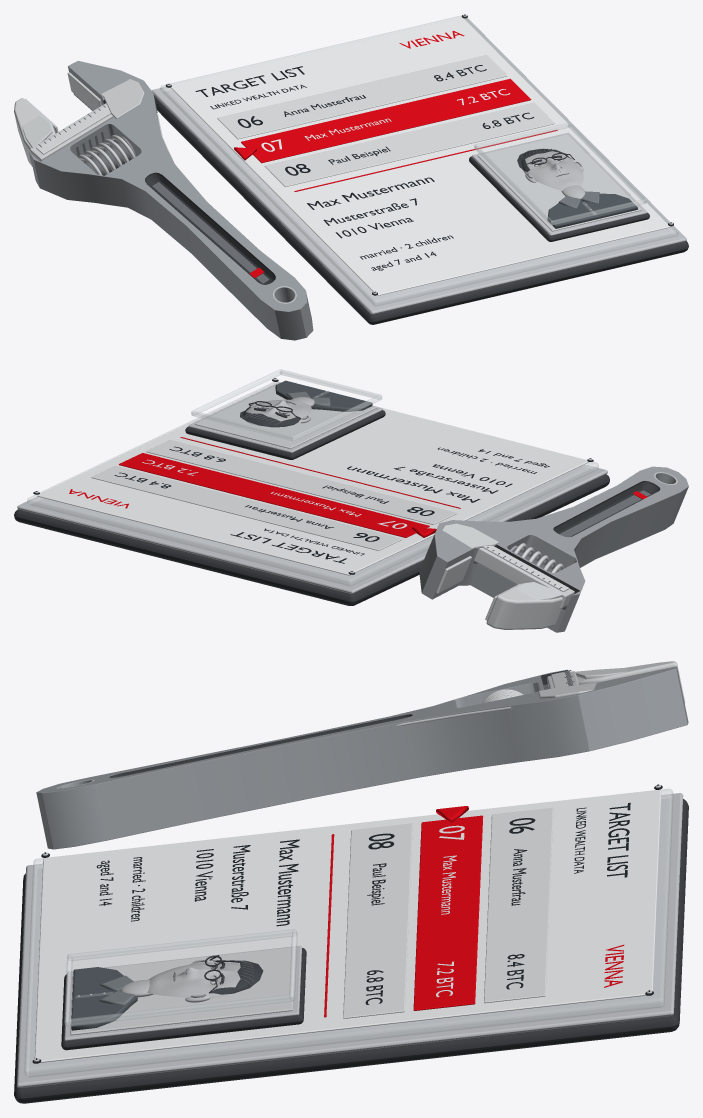
File: ranked-portrait-en.glb
3 views of the same model, one above another, from view 1: azimuth 30°, elevation 25°; view 2: azimuth 150°, elevation 25°; view 3: azimuth 270°, elevation 25° (orthographic). The views are drawn at different scales.
Parts seen in each view (by area): view 1: Target list anti-glare reading face.001, One-piece asymmetric fixed jaw and forged handle.001, Target list precision frame.001, Target list optical rim.001, Ranked list row.003, Ranked list row.002, Ranked list selected row.001, Target list graphite body.001, Passport portrait matte photo plane.001, Max collared shirt shoulders.001, Max distinct sculpted human face.001, Passport portrait titanium rim.001 (+13 smaller); view 2: Target list anti-glare reading face.001, One-piece asymmetric fixed jaw and forged handle.001, Target list precision frame.001, Target list graphite body.001, Target list optical rim.001, Ranked list row.002, Ranked list row.003, Ranked list selected row.001, Passport portrait matte photo plane.001, Separate forged moving jaw.001, Passport portrait graphite inset.001, Movable jaw rack slide.001 (+15 smaller); view 3: Target list anti-glare reading face.001, One-piece asymmetric fixed jaw and forged handle.001, Target list precision frame.001, Target list optical rim.001, Target list graphite body.001, Ranked list row.002, Ranked list row.003, Ranked list selected row.001, Passport portrait matte photo plane.001, Passport portrait graphite inset.001, Max collared shirt shoulders.001, Passport portrait titanium rim.001 (+8 smaller).
Boxes of the visible parts, x1=… form: Target list anti-glare reading face.001: x1=170, y1=17, x2=669, y2=295; One-piece asymmetric fixed jaw and forged handle.001: x1=29, y1=61, x2=313, y2=340; Target list precision frame.001: x1=151, y1=18, x2=686, y2=314; Target list optical rim.001: x1=160, y1=15, x2=678, y2=306; Ranked list row.003: x1=264, y1=102, x2=554, y2=186; Ranked list row.002: x1=217, y1=55, x2=507, y2=139; Ranked list selected row.001: x1=241, y1=78, x2=531, y2=163; Target list graphite body.001: x1=154, y1=95, x2=688, y2=324; Passport portrait matte photo plane.001: x1=477, y1=134, x2=641, y2=231; Max collared shirt shoulders.001: x1=547, y1=193, x2=637, y2=228; Max distinct sculpted human face.001: x1=523, y1=151, x2=583, y2=190; Passport portrait titanium rim.001: x1=472, y1=133, x2=647, y2=235; Target list anti-glare reading face.001: x1=37, y1=381, x2=588, y2=575; One-piece asymmetric fixed jaw and forged handle.001: x1=419, y1=466, x2=688, y2=632; Target list precision frame.001: x1=17, y1=464, x2=607, y2=593; Target list graphite body.001: x1=14, y1=474, x2=609, y2=605; Target list optical rim.001: x1=27, y1=382, x2=598, y2=586; Ranked list row.002: x1=91, y1=466, x2=402, y2=550; Ranked list row.003: x1=146, y1=440, x2=457, y2=524; Ranked list selected row.001: x1=119, y1=453, x2=429, y2=537; Passport portrait matte photo plane.001: x1=195, y1=385, x2=376, y2=448; Separate forged moving jaw.001: x1=486, y1=583, x2=562, y2=629; Passport portrait graphite inset.001: x1=185, y1=410, x2=385, y2=459; Movable jaw rack slide.001: x1=474, y1=547, x2=574, y2=608; Target list anti-glare reading face.001: x1=34, y1=790, x2=661, y2=1062; One-piece asymmetric fixed jaw and forged handle.001: x1=36, y1=666, x2=688, y2=849; Target list precision frame.001: x1=16, y1=793, x2=683, y2=1087; Target list optical rim.001: x1=24, y1=789, x2=672, y2=1077; Target list graphite body.001: x1=14, y1=799, x2=688, y2=1103; Ranked list row.002: x1=484, y1=808, x2=553, y2=1003; Ranked list row.003: x1=343, y1=823, x2=412, y2=1018; Ranked list selected row.001: x1=413, y1=815, x2=483, y2=1010; Passport portrait matte photo plane.001: x1=70, y1=947, x2=295, y2=1035; Passport portrait graphite inset.001: x1=61, y1=948, x2=306, y2=1050; Max collared shirt shoulders.001: x1=71, y1=967, x2=137, y2=1030; Passport portrait titanium rim.001: x1=64, y1=946, x2=301, y2=1040.
Bounding box in the file's own units: 7.28 × 1.78 × 6.18.
3 materials, 3 textured.
